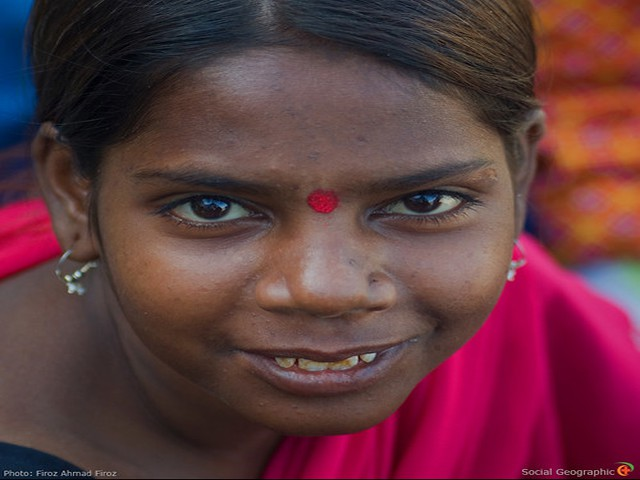Person: (7, 4, 630, 471)
